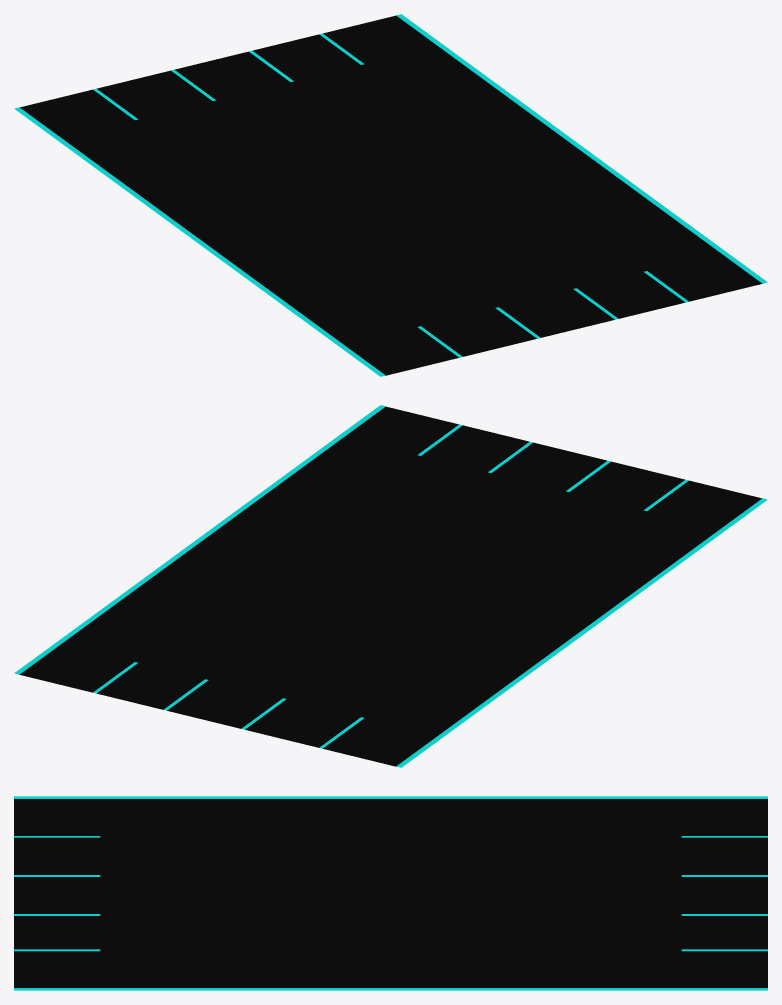
Rendered from Road_Test.fbx.
The picture shows the model from 3 angles, top to bottom: view 1: azimuth 30°, elevation 25°; view 2: azimuth 150°, elevation 25°; view 3: azimuth 270°, elevation 25°; orthographic projection. The views are drawn at different scales.
Visible parts, largest first — view 1: pPlane5, pPlane3, pPlane4; view 2: pPlane5, pPlane3, pPlane4; view 3: pPlane5, pPlane3, pPlane4.
Part boxes in pixels (x1,y1,x2,y2): pPlane5: (20, 15, 763, 375); pPlane3: (396, 14, 767, 283); pPlane4: (14, 107, 385, 376); pPlane5: (18, 406, 761, 766); pPlane3: (14, 405, 385, 674); pPlane4: (396, 498, 767, 767); pPlane5: (14, 799, 767, 987); pPlane3: (14, 988, 767, 990); pPlane4: (14, 796, 767, 798).
Bounding box in the file's own units: 52.24 × 0.02 × 85.58.
